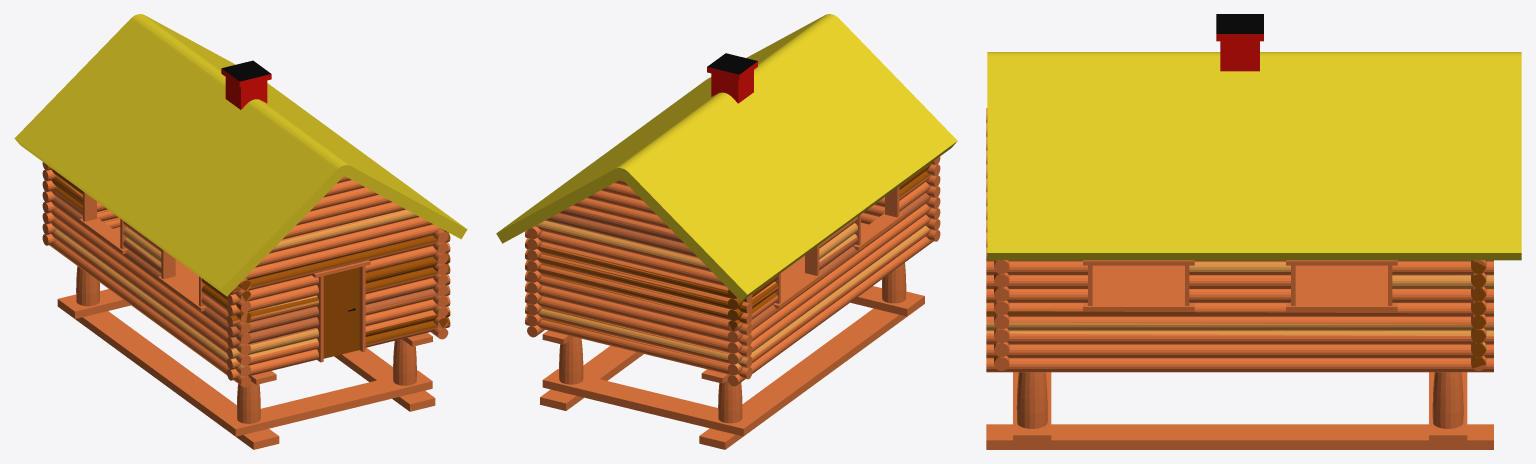
The model's file is log cabins_final.fbx.
The picture shows the model from 3 angles, left to right: view 1: azimuth 30°, elevation 25°; view 2: azimuth 150°, elevation 25°; view 3: azimuth 270°, elevation 25°; orthographic projection. The views are drawn at different scales.
Parts seen in each view (by area): view 1: imagetostl_mesh0; view 2: imagetostl_mesh0; view 3: imagetostl_mesh0.
Part boxes in pixels (left/top/right/bottom): imagetostl_mesh0: left=14, top=14, right=467, bottom=449; imagetostl_mesh0: left=496, top=14, right=957, bottom=449; imagetostl_mesh0: left=986, top=14, right=1521, bottom=449.
Size of the model in its own units: 522 by 576 by 758.
